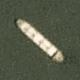ship: (10, 0, 68, 29)
